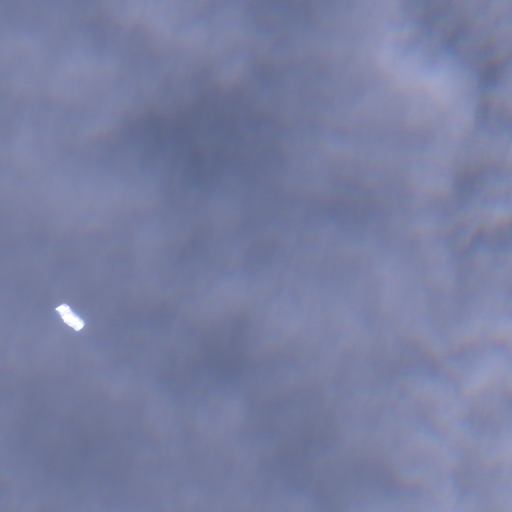Iceberg: (55, 303, 85, 331)
